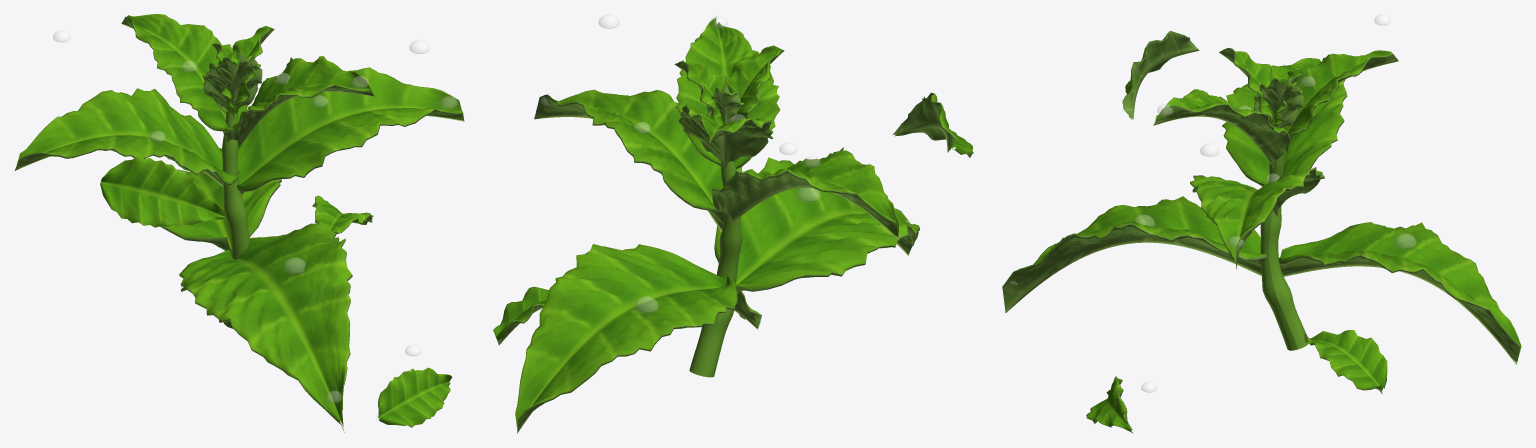
The model's file is mint-leaves.glb.
The picture shows the model from 3 angles, left to right: view 1: azimuth 30°, elevation 25°; view 2: azimuth 150°, elevation 25°; view 3: azimuth 270°, elevation 25°; orthographic projection. The views are drawn at different scales.
Parts seen in each view (by area): view 1: mint-leaves-cuticle-top, mint-leaves-underside, mint-stem, mint-dew-droplets; view 2: mint-leaves-cuticle-top, mint-leaves-underside, mint-stem, mint-dew-droplets; view 3: mint-leaves-cuticle-top, mint-leaves-underside, mint-stem, mint-dew-droplets.
Boxes of the visible parts, box(x1,y1,x2,y2) form: mint-leaves-cuticle-top: box(16, 14, 462, 427); mint-leaves-underside: box(14, 17, 464, 432); mint-stem: box(222, 111, 249, 328); mint-dew-droplets: box(53, 30, 457, 402); mint-leaves-cuticle-top: box(493, 17, 973, 426); mint-leaves-underside: box(497, 40, 973, 433); mint-stem: box(689, 160, 742, 377); mint-dew-droplets: box(541, 14, 914, 312); mint-leaves-cuticle-top: box(1002, 34, 1521, 432); mint-leaves-underside: box(1002, 31, 1520, 431); mint-stem: box(1260, 153, 1308, 350); mint-dew-droplets: box(1009, 14, 1416, 392).
Size of the model in its own units: 0.0939 by 0.0766 by 0.1112.
4 materials, 2 textured.
